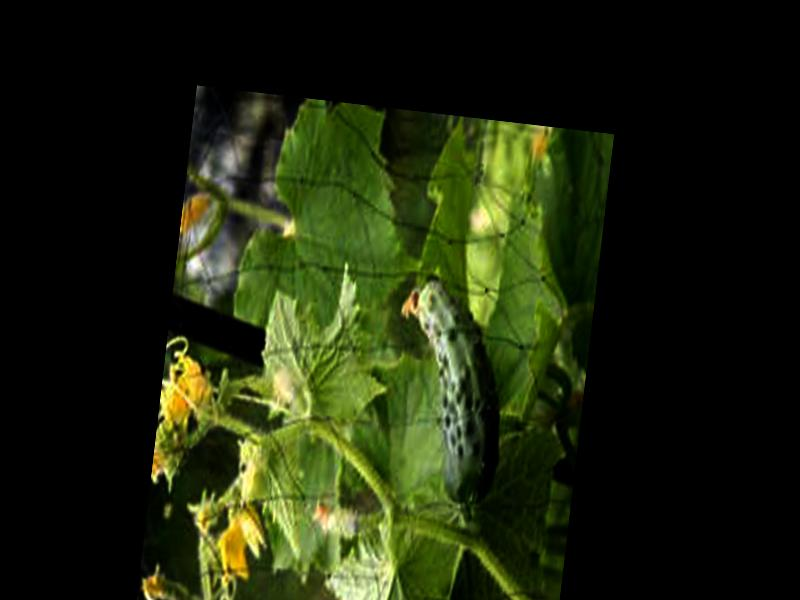Cucumber: (378, 273, 516, 512)
